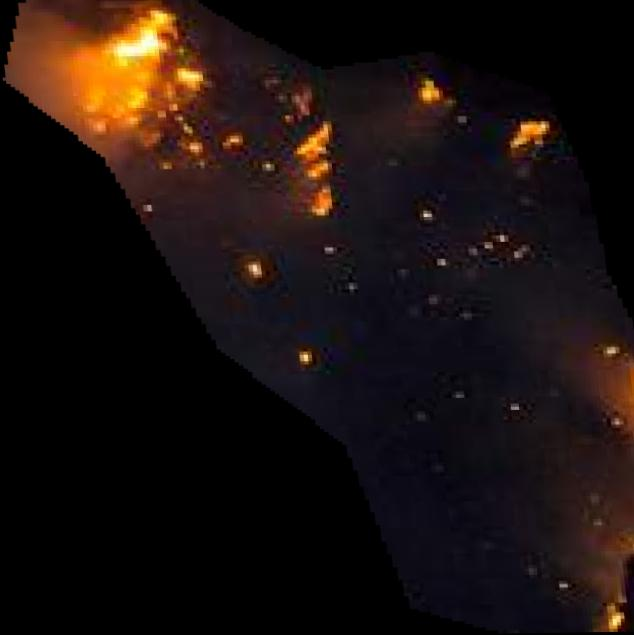fire: (1, 0, 634, 635)
